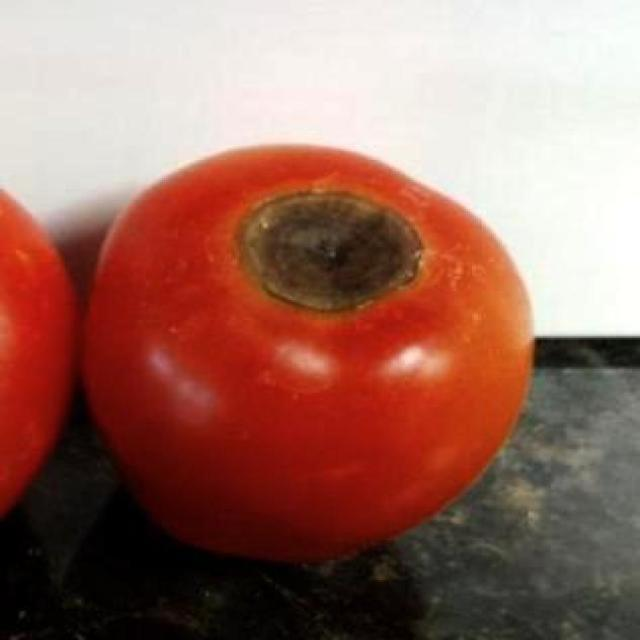Blossom End Rot Fruit: (153, 120, 285, 213)
